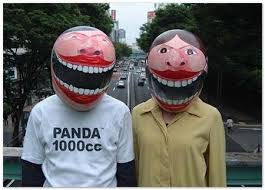helmet: (142, 36, 210, 111), (50, 32, 117, 107)
